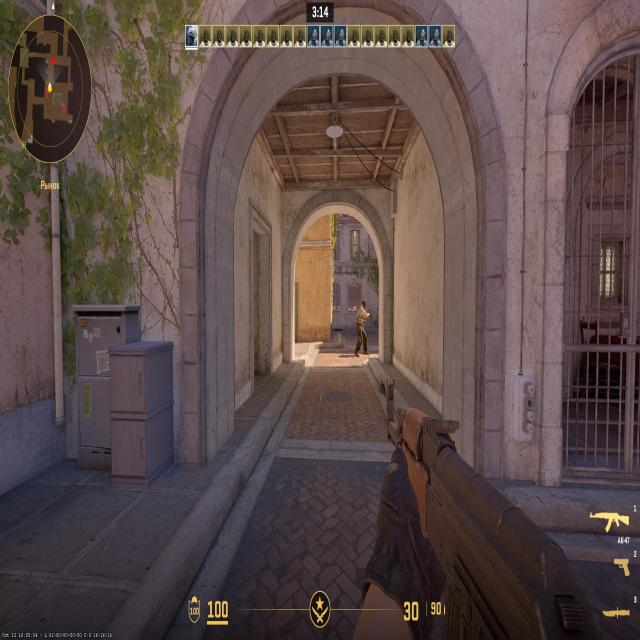T: (361, 295, 369, 353)
T_heat: (361, 303, 365, 312)
